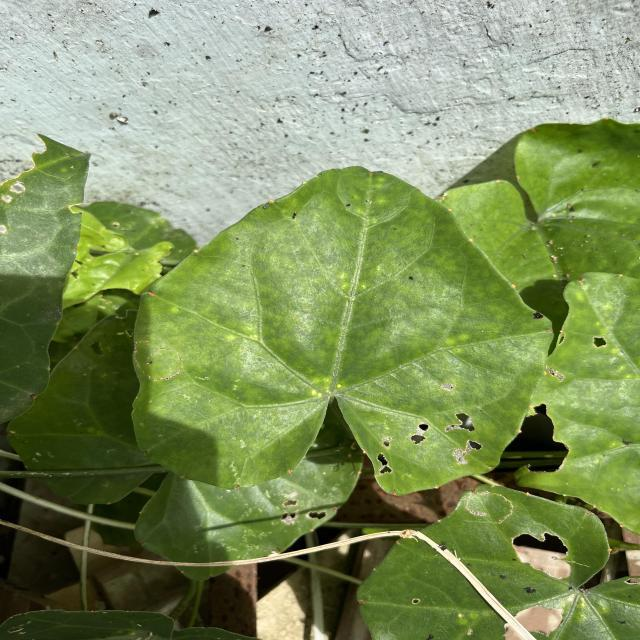Coccinia grandis: (126, 165, 559, 500)
